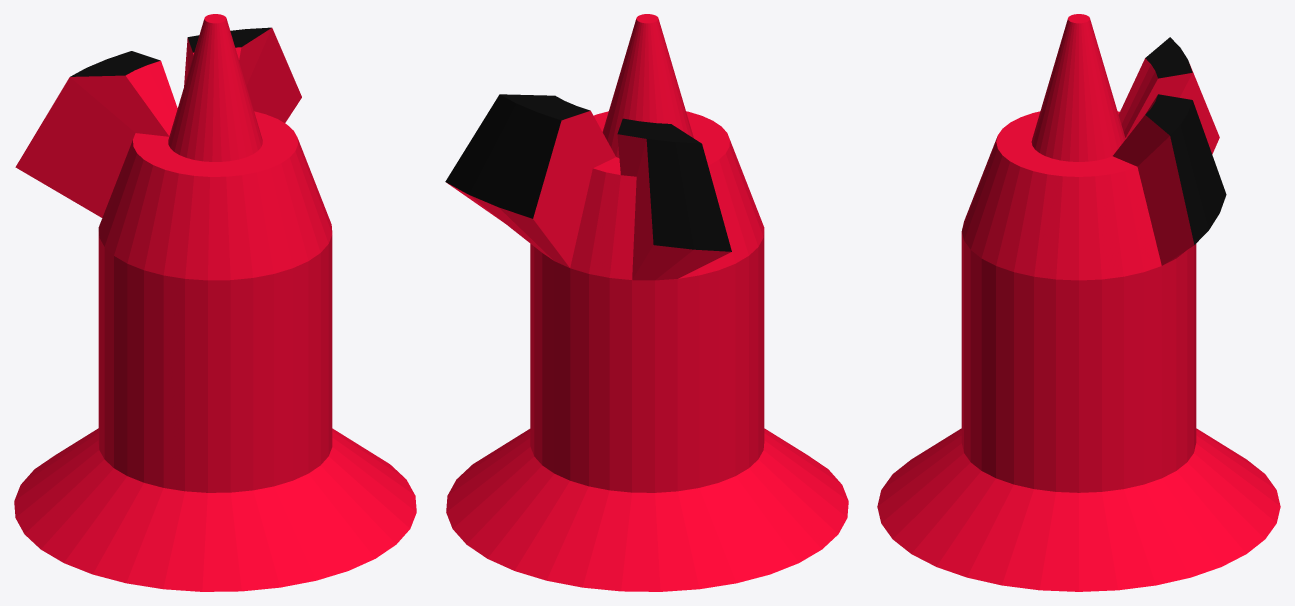
Rendered from Enemy1.fbx.
The picture shows the model from 3 angles, left to right: view 1: azimuth 30°, elevation 25°; view 2: azimuth 150°, elevation 25°; view 3: azimuth 270°, elevation 25°; orthographic projection.
Visible parts, largest first — view 1: Cylinder; view 2: Cylinder; view 3: Cylinder.
Part boxes in pixels (x1=…): Cylinder: x1=14, y1=14, x2=416, y2=591; Cylinder: x1=445, y1=14, x2=848, y2=591; Cylinder: x1=877, y1=14, x2=1280, y2=591.
Bounding box in the file's own units: 344 × 460 × 344.
